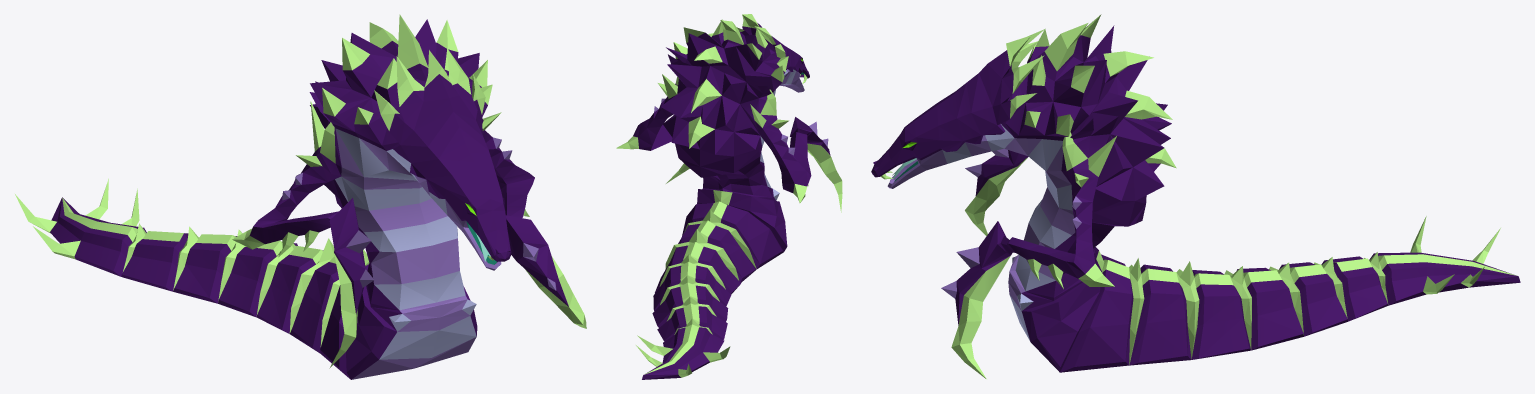
3 renders of one model, left to right at view 1: azimuth 30°, elevation 25°; view 2: azimuth 150°, elevation 25°; view 3: azimuth 270°, elevation 25°, orthographic. The views are drawn at different scales.
Visible parts, largest first — view 1: Alien_Serpent; view 2: Alien_Serpent; view 3: Alien_Serpent.
Part boxes in pixels (bbox=[...]): Alien_Serpent: bbox=[15, 14, 586, 379]; Alien_Serpent: bbox=[616, 14, 842, 379]; Alien_Serpent: bbox=[871, 14, 1520, 379].
Size of the model in its own units: 220 by 217 by 394.
Materials: 1 (1 with a texture image).
